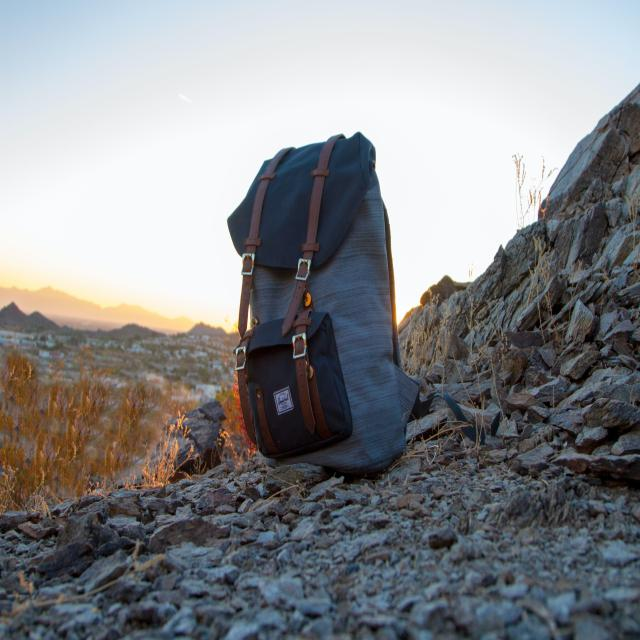backpack: (225, 131, 422, 480)
